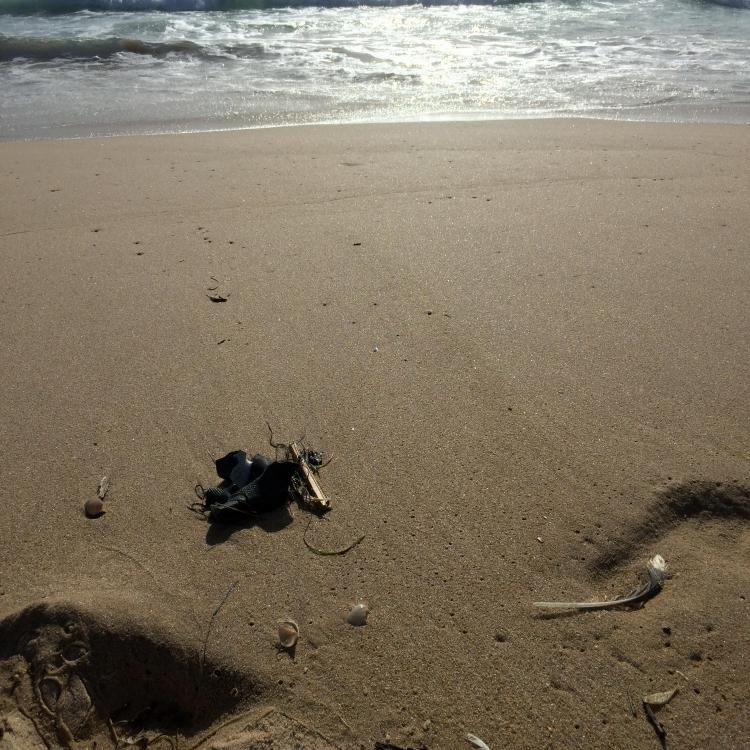Other plastic wrapper: (206, 449, 300, 524)
